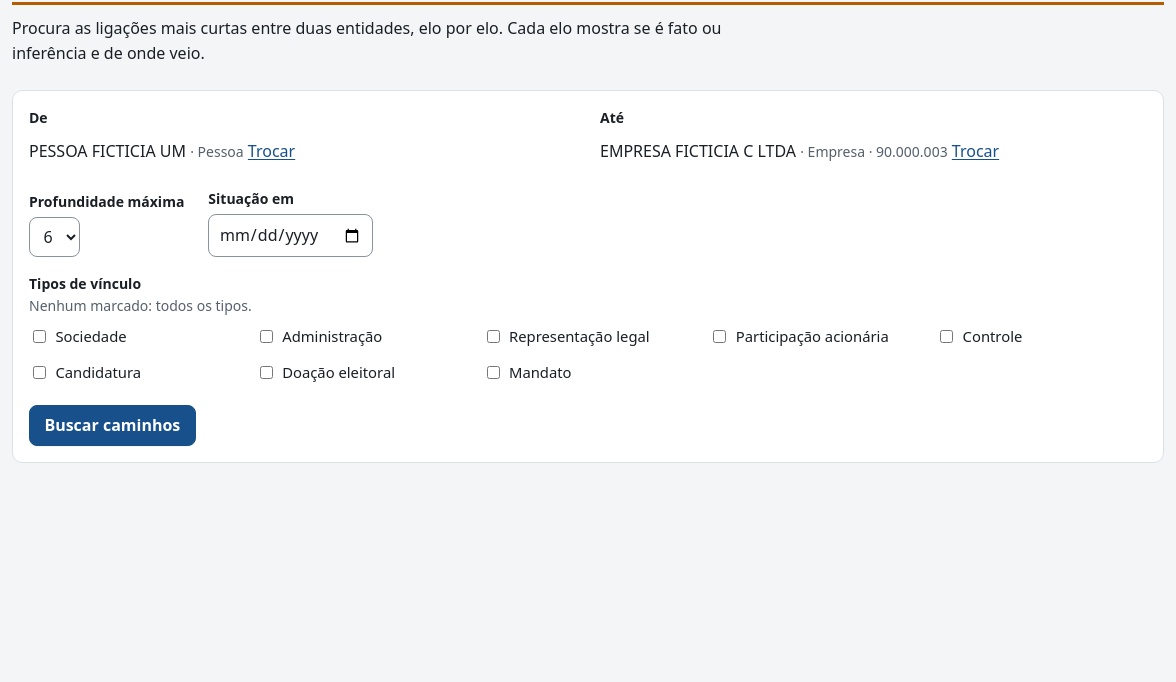
it: PathsPage › caminhos: envia a tarefa, mostra progresso e lista cada elo com EdgeBadge
This screenshot has width=1176, height=682.
Expected: the text "EMPRESA FICTICIA C LTDA" is shown, [600,140,796,162]
Click the button "Buscar caminhos" at [112, 425], box [29,404,196,446]
Wait 2000 ms
(page scrolled)
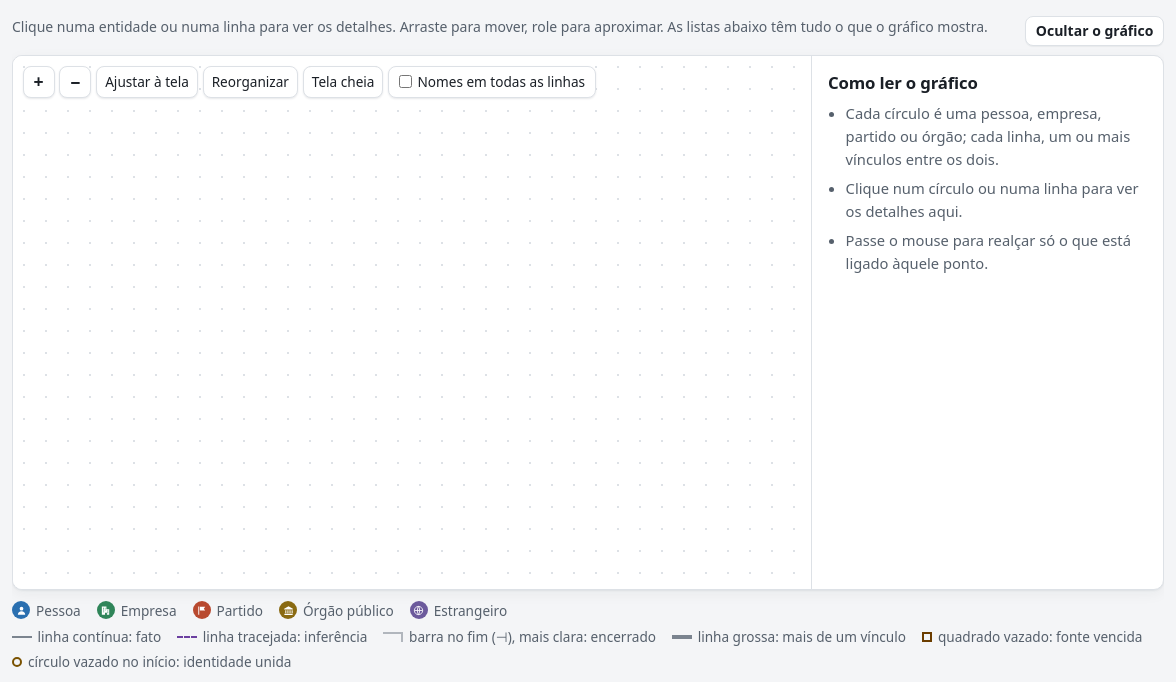
Expected: the element named "Detalhes do que está selecionado" is shown, [811,56,1163,589]
